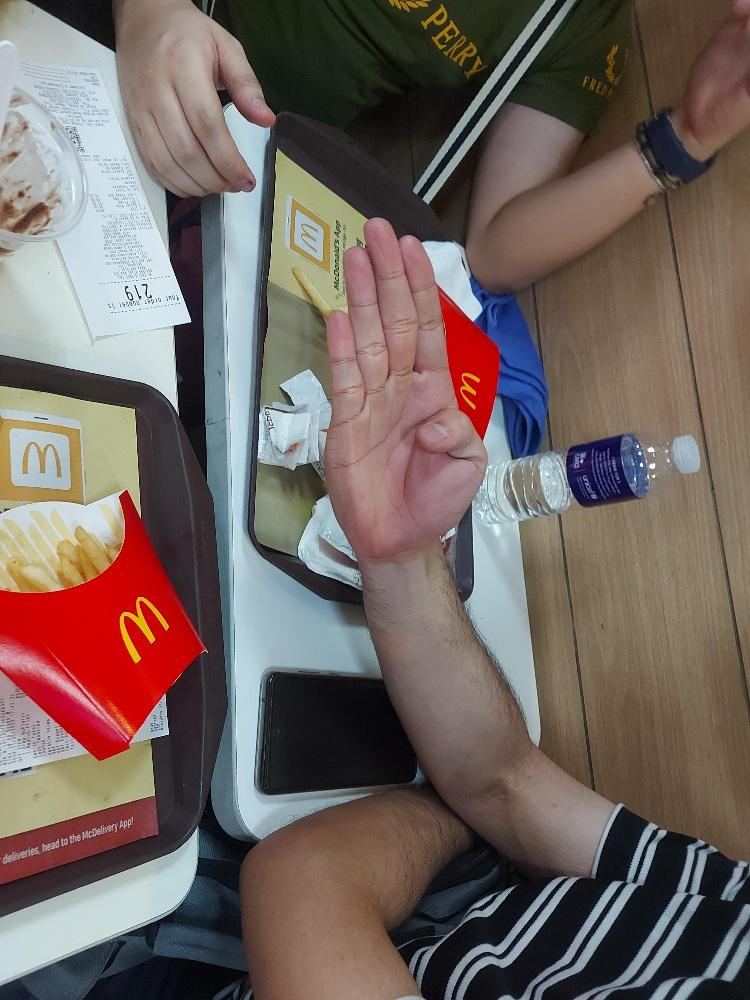b: (317, 211, 492, 557)
